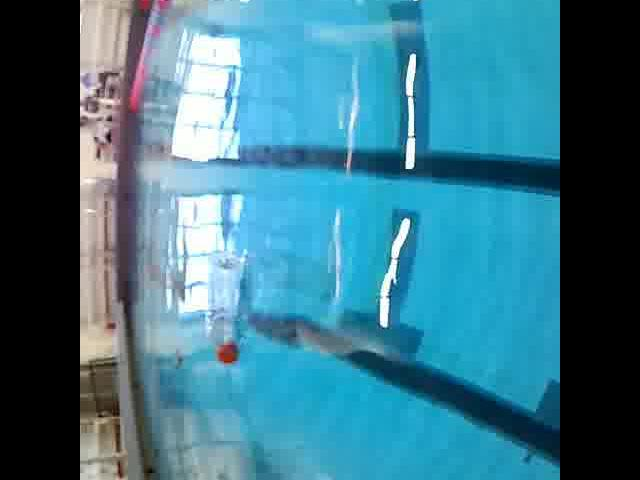Bottle: (203, 241, 251, 368)
